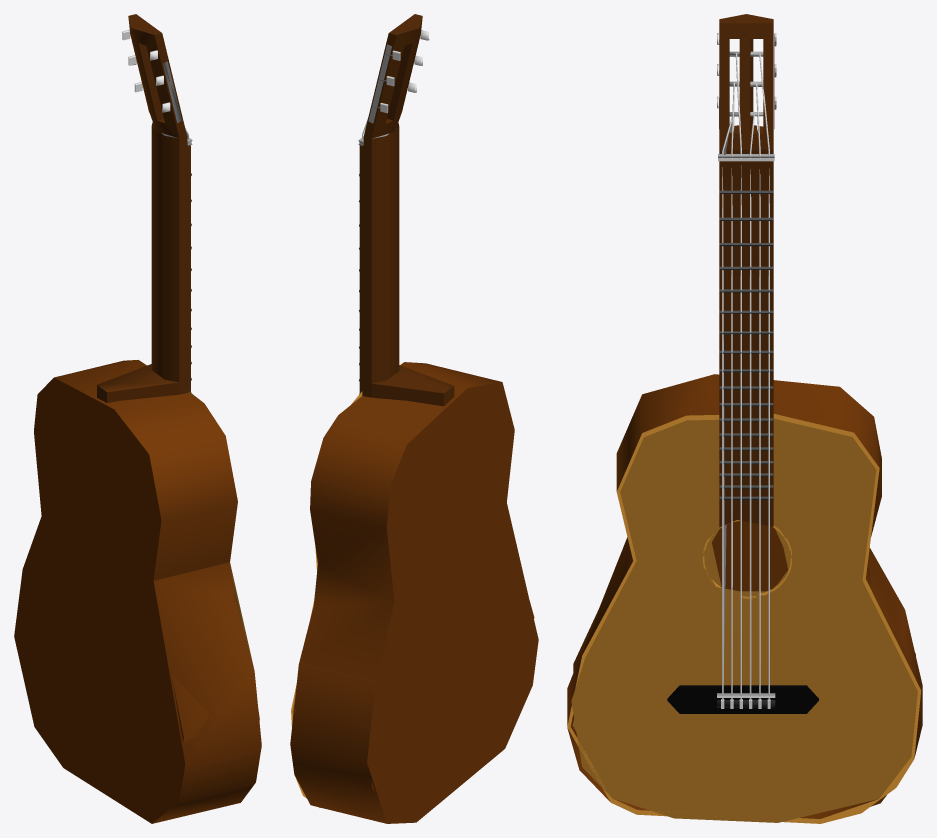
The model's file is music_guitar_classic.glb.
The picture shows the model from 3 angles, left to right: view 1: azimuth 30°, elevation 25°; view 2: azimuth 150°, elevation 25°; view 3: azimuth 270°, elevation 25°; orthographic projection. The views are drawn at different scales.
Parts seen in each view (by area): view 1: ClassicalGuitar; view 2: ClassicalGuitar; view 3: ClassicalGuitar.
Boxes of the visible parts, x1,y1,x2,y2 form: ClassicalGuitar: [14, 14, 261, 823]; ClassicalGuitar: [290, 14, 538, 823]; ClassicalGuitar: [567, 14, 922, 823].
Bounding box in the file's own units: 0.1149 × 1 × 0.4092.
